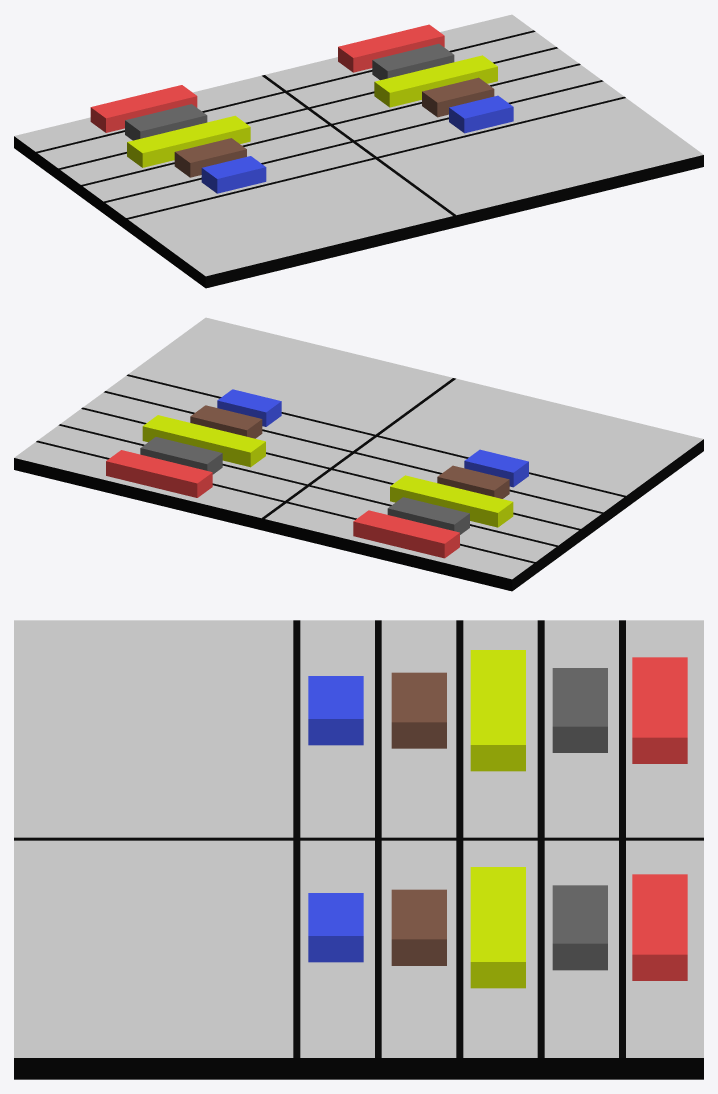
File: Table_with_boxex.gltf
3 renders of one model, top to bottom at view 1: azimuth 30°, elevation 25°; view 2: azimuth 150°, elevation 25°; view 3: azimuth 270°, elevation 25°, orthographic. The views are drawn at different scales.
Parts seen in each view (by area): view 1: Table, box_yellow, box_yellow_2, box_red, box_red_2, box_blue, box_green_2, box_green, box_blue_2, box_brown, box_brown_2; view 2: Table, box_red, box_red_2, box_yellow_2, box_yellow, box_green_2, box_green, box_brown_2, box_brown, box_blue, box_blue_2; view 3: Table, box_yellow, box_yellow_2, box_red, box_red_2, box_green_2, box_green, box_brown, box_brown_2, box_blue, box_blue_2.
Part boxes in pixels (left/top/right/bottom): Table: left=14, top=14, right=703, bottom=288; box_yellow: left=127, top=115, right=250, bottom=167; box_yellow_2: left=374, top=55, right=497, bottom=107; box_red: left=90, top=85, right=197, bottom=132; box_red_2: left=338, top=24, right=444, bottom=72; box_blue: left=201, top=156, right=266, bottom=193; box_green_2: left=372, top=43, right=454, bottom=80; box_green: left=125, top=104, right=207, bottom=140; box_blue_2: left=449, top=95, right=513, bottom=133; box_brown: left=174, top=138, right=246, bottom=177; box_brown_2: left=422, top=77, right=494, bottom=117; Table: left=14, top=317, right=703, bottom=591; box_red: left=353, top=510, right=459, bottom=558; box_red_2: left=106, top=450, right=212, bottom=497; box_yellow_2: left=142, top=415, right=265, bottom=467; box_yellow: left=390, top=475, right=513, bottom=527; box_green_2: left=140, top=437, right=222, bottom=474; box_green: left=387, top=497, right=469, bottom=534; box_brown_2: left=190, top=405, right=262, bottom=438; box_brown: left=437, top=465, right=509, bottom=498; box_blue: left=464, top=449, right=528, bottom=487; box_blue_2: left=217, top=389, right=281, bottom=426; Table: left=14, top=620, right=703, bottom=1079; box_yellow: left=470, top=650, right=525, bottom=771; box_yellow_2: left=470, top=867, right=525, bottom=988; box_red: left=632, top=657, right=687, bottom=763; box_red_2: left=632, top=874, right=687, bottom=980; box_green_2: left=552, top=885, right=607, bottom=970; box_green: left=552, top=668, right=607, bottom=752; box_brown: left=391, top=672, right=446, bottom=748; box_brown_2: left=391, top=889, right=446, bottom=965; box_blue: left=308, top=676, right=363, bottom=745; box_blue_2: left=308, top=893, right=363, bottom=962.
Size of the model in its own units: 59.08 by 3.03 by 39.39.
